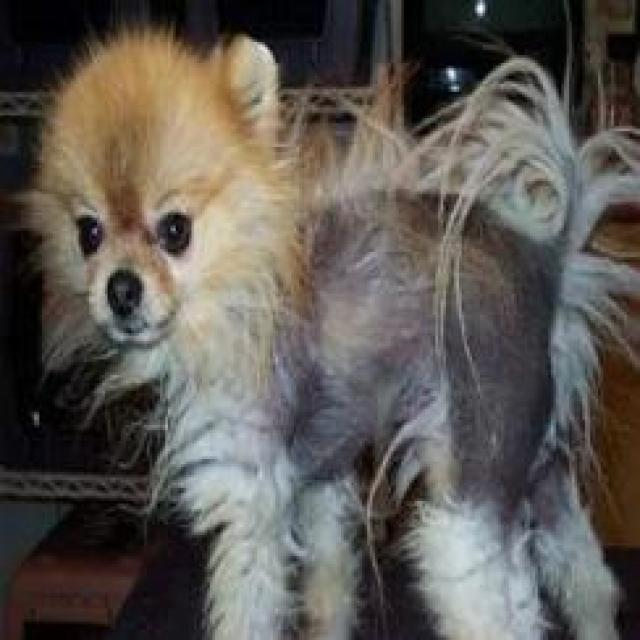fungal infection: (299, 261, 425, 365), (399, 192, 526, 268), (99, 176, 151, 243), (470, 250, 525, 303), (121, 239, 177, 289)
